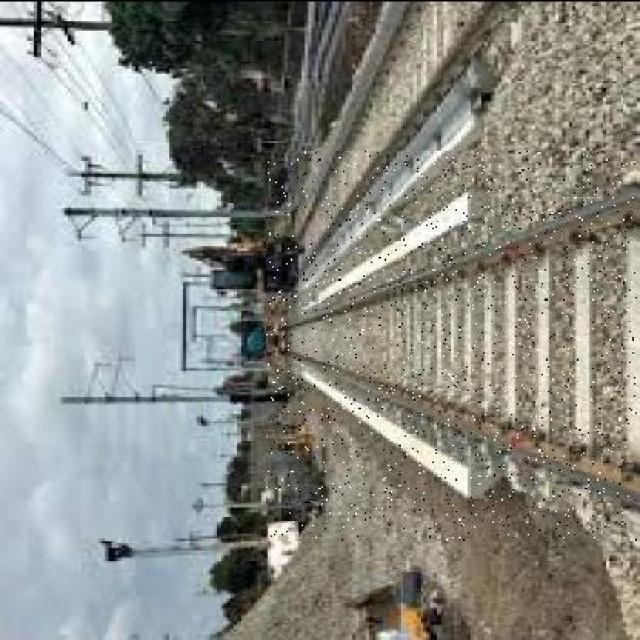rail: (268, 151, 638, 539)
